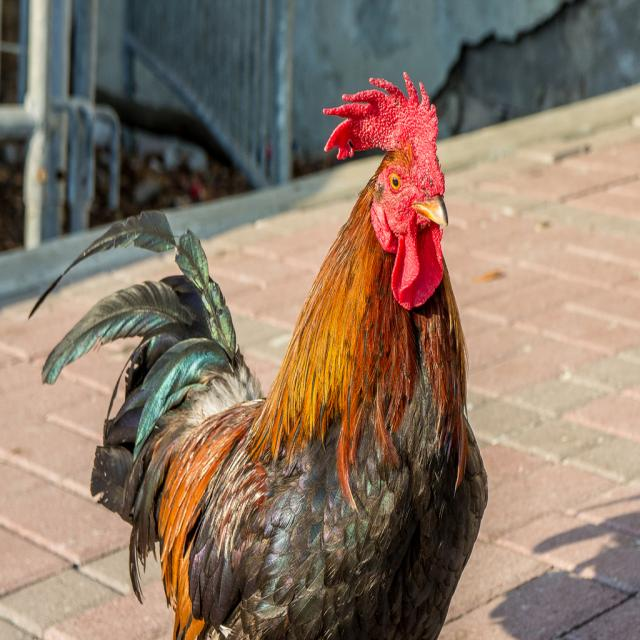Chicken: (28, 71, 488, 640)
